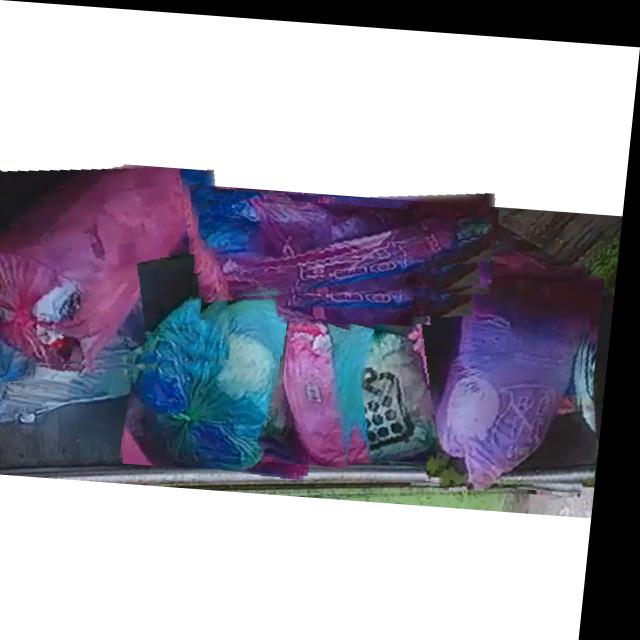general_trashbag: (142, 289, 334, 466), (344, 315, 460, 456)
other_trashbag: (0, 164, 213, 364), (446, 266, 593, 482), (204, 195, 497, 292), (293, 300, 357, 461), (282, 273, 421, 316)
